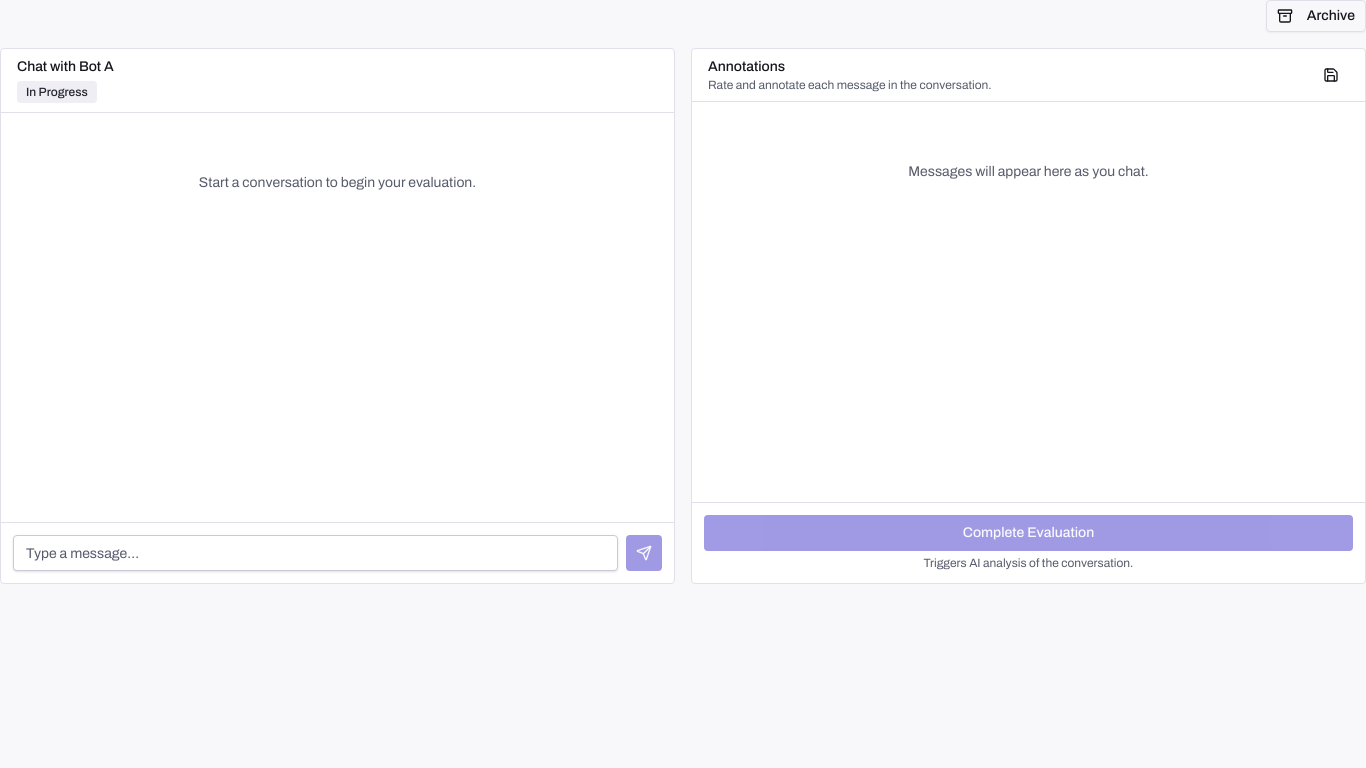
Test case: EvaluationRunner › archive action › shows confirmation dialog when archive button clicked
The width and height of the screenshot is (1366, 768).
Click the button "Archive".
click(1316, 16)  # box x1=1266 y1=0 x2=1365 y2=32
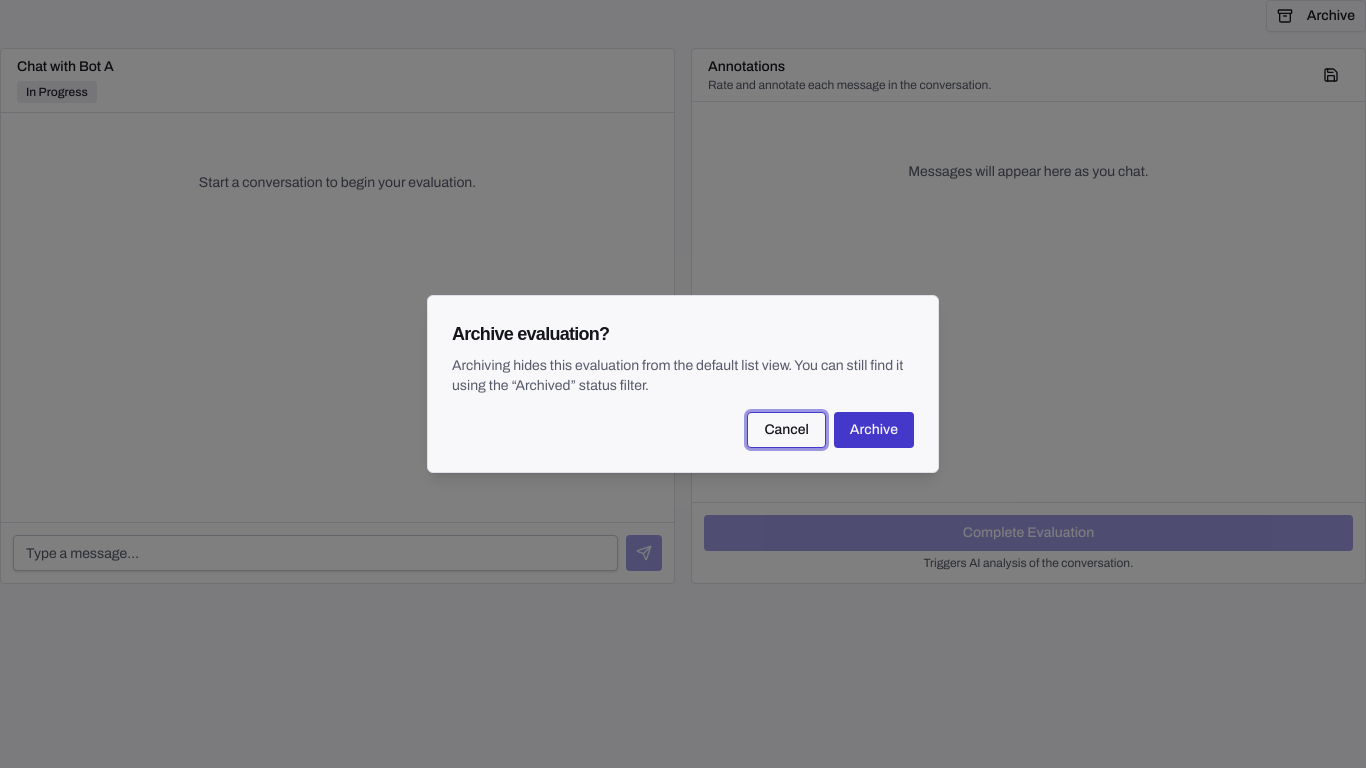
Check: the heading "Archive evaluation?" is shown, box x1=452 y1=324 x2=609 y2=344
